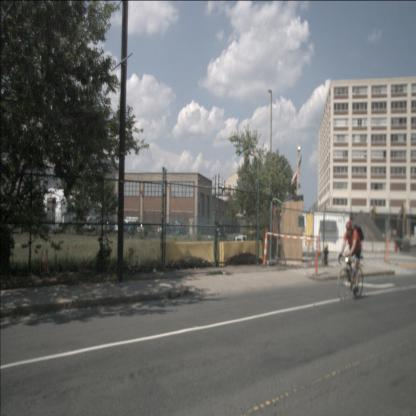movable_object-barrier: (158, 241, 216, 271), (219, 240, 264, 267)
movable_object-trafficcone: (262, 227, 268, 267), (314, 236, 319, 276), (318, 230, 322, 255), (393, 239, 396, 254), (396, 247, 400, 253)
vehicle-bicycle: (337, 221, 364, 300)
vehicle-car: (136, 224, 154, 236), (103, 220, 118, 234), (126, 222, 140, 235), (114, 221, 128, 233), (157, 223, 171, 234)
